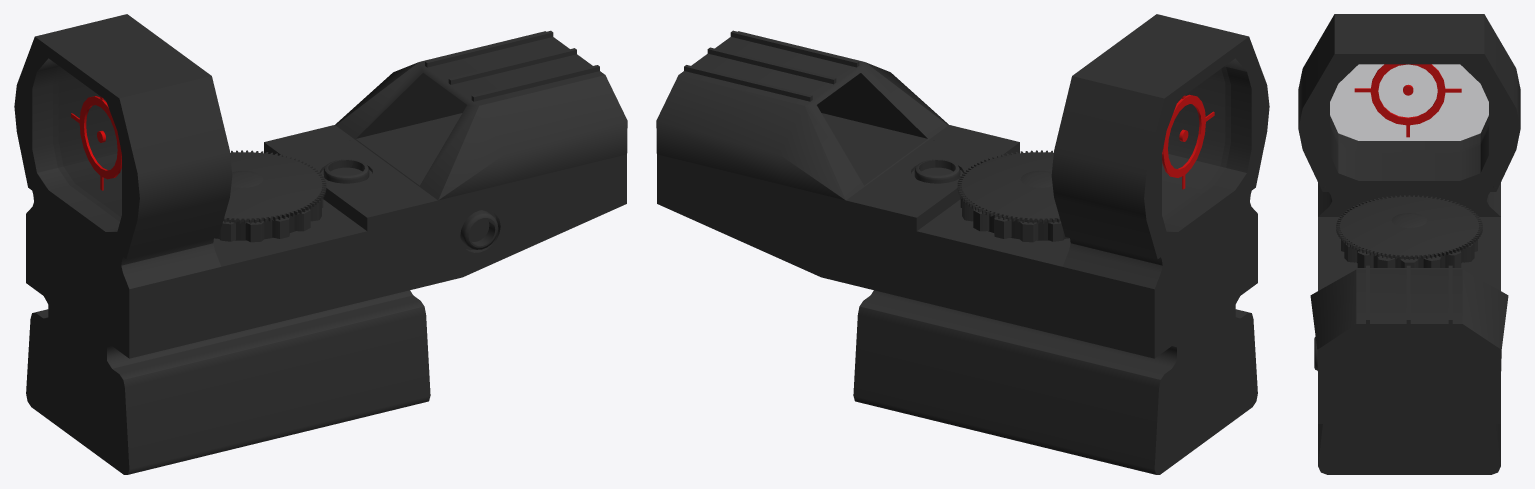
The model's file is optic_sight.gltf.
The picture shows the model from 3 angles, left to right: view 1: azimuth 30°, elevation 25°; view 2: azimuth 150°, elevation 25°; view 3: azimuth 270°, elevation 25°; orthographic projection. The views are drawn at different scales.
Visible parts, largest first — view 1: pCube36_lambert4_0, pCube31_lambert4_0, pCube33_lambert4_0, pCube40_lambert3_0, pGear3_lambert4_0, pCube35_lambert4_0, pGear4_lambert4_0, pCube45_lambert5_0, pCube32_lambert4_0, pCube34_lambert4_0, pCube30_lambert4_0, pCylinder14_lambert4_0 (+1 smaller); view 2: pCube36_lambert4_0, pCube31_lambert4_0, pCube33_lambert4_0, pCube40_lambert3_0, pGear3_lambert4_0, pCube35_lambert4_0, pGear4_lambert4_0, pCube45_lambert5_0, pCube34_lambert4_0, pCube32_lambert4_0, pCube30_lambert4_0, pCylinder15_lambert4_0; view 3: pCube36_lambert4_0, pCube33_lambert4_0, pCube40_lambert3_0, pCube31_lambert4_0, pGear3_lambert4_0, pCube45_lambert5_0, pGear4_lambert4_0, pCylinder13_lambert4_0, pCube30_lambert4_0, pCube34_lambert4_0, pCylinder12_lambert1_0.
Part boxes in pixels (x1,y1,x2,y2): pCube36_lambert4_0: (26, 31, 627, 358); pCube31_lambert4_0: (26, 295, 430, 474); pCube33_lambert4_0: (14, 14, 232, 259); pCube40_lambert3_0: (53, 66, 121, 220); pGear3_lambert4_0: (223, 150, 326, 223); pCube35_lambert4_0: (43, 290, 412, 368); pGear4_lambert4_0: (218, 197, 323, 242); pCube45_lambert5_0: (71, 96, 121, 190); pCube32_lambert4_0: (471, 65, 599, 101); pCube34_lambert4_0: (448, 48, 576, 84); pCube30_lambert4_0: (425, 30, 553, 67); pCylinder14_lambert4_0: (460, 210, 498, 249); pCube36_lambert4_0: (656, 31, 1257, 358); pCube31_lambert4_0: (853, 295, 1257, 474); pCube33_lambert4_0: (1051, 14, 1269, 259); pCube40_lambert3_0: (1162, 66, 1230, 220); pGear3_lambert4_0: (957, 150, 1060, 223); pCube35_lambert4_0: (871, 290, 1240, 368); pGear4_lambert4_0: (960, 197, 1065, 242); pCube45_lambert5_0: (1162, 94, 1214, 189); pCube34_lambert4_0: (707, 47, 836, 84); pCube32_lambert4_0: (730, 30, 859, 67); pCube30_lambert4_0: (684, 65, 812, 101); pCylinder15_lambert4_0: (914, 159, 960, 183); pCube36_lambert4_0: (1310, 183, 1508, 423); pCube33_lambert4_0: (1298, 14, 1520, 191); pCube40_lambert3_0: (1330, 64, 1488, 151); pCube31_lambert4_0: (1318, 424, 1500, 474); pGear3_lambert4_0: (1336, 195, 1482, 259); pCube45_lambert5_0: (1354, 64, 1461, 137); pGear4_lambert4_0: (1341, 239, 1477, 267); pCylinder13_lambert4_0: (1391, 213, 1427, 227); pCube30_lambert4_0: (1448, 265, 1452, 323); pCube34_lambert4_0: (1406, 265, 1410, 323); pCylinder12_lambert1_0: (1357, 250, 1461, 267).
Bounding box in the file's own units: 0.8772 × 0.6286 × 0.3828.
